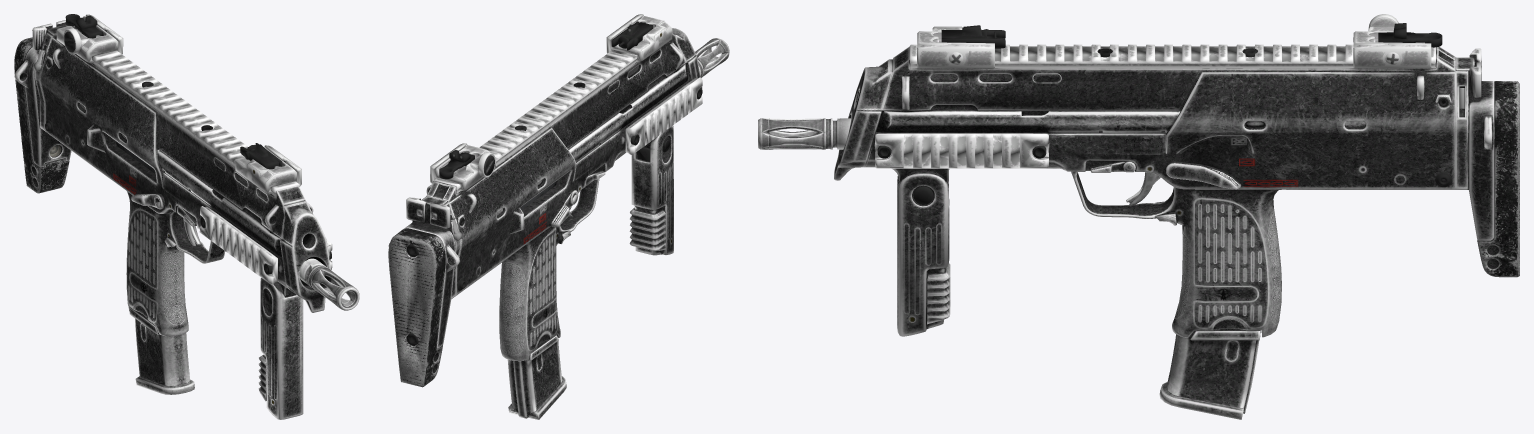
Rendered from Weapons_MP7_LOD0.glb.
3 renders of one model, left to right at view 1: azimuth 30°, elevation 25°; view 2: azimuth 150°, elevation 25°; view 3: azimuth 270°, elevation 25°, orthographic. The views are drawn at different scales.
Parts seen in each view (by area): view 1: Hoodie; view 2: Hoodie; view 3: Hoodie.
Part boxes in pixels (x1=…): Hoodie: x1=14, y1=14, x2=359, y2=419; Hoodie: x1=388, y1=14, x2=729, y2=419; Hoodie: x1=758, y1=14, x2=1519, y2=419.
Size of the model in its own units: 0.0596 by 0.2558 by 0.4586.
Materials: 1 (1 with a texture image).
